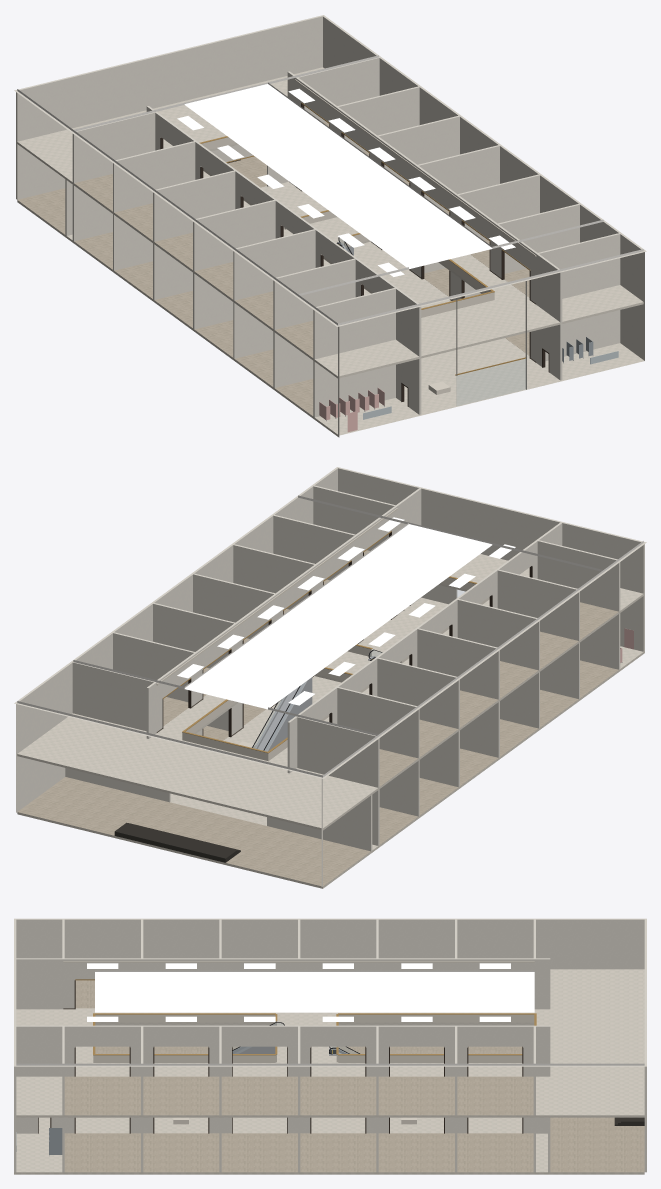
File: mall.glb
3 renders of one model, top to bottom at view 1: azimuth 30°, elevation 25°; view 2: azimuth 150°, elevation 25°; view 3: azimuth 270°, elevation 25°, orthographic. The views are drawn at different scales.
Visible parts, largest first — view 1: mall, glass; view 2: mall; view 3: mall.
Boxes of the visible parts, box(x1,y1,x2,y2) form: mall: box(14, 15, 646, 437); glass: box(339, 238, 525, 405); mall: box(14, 467, 646, 888); mall: box(14, 918, 646, 1174).
Size of the model in its own units: 44.6 by 15.6 by 80.6.
Materials: 22 (4 with a texture image).
